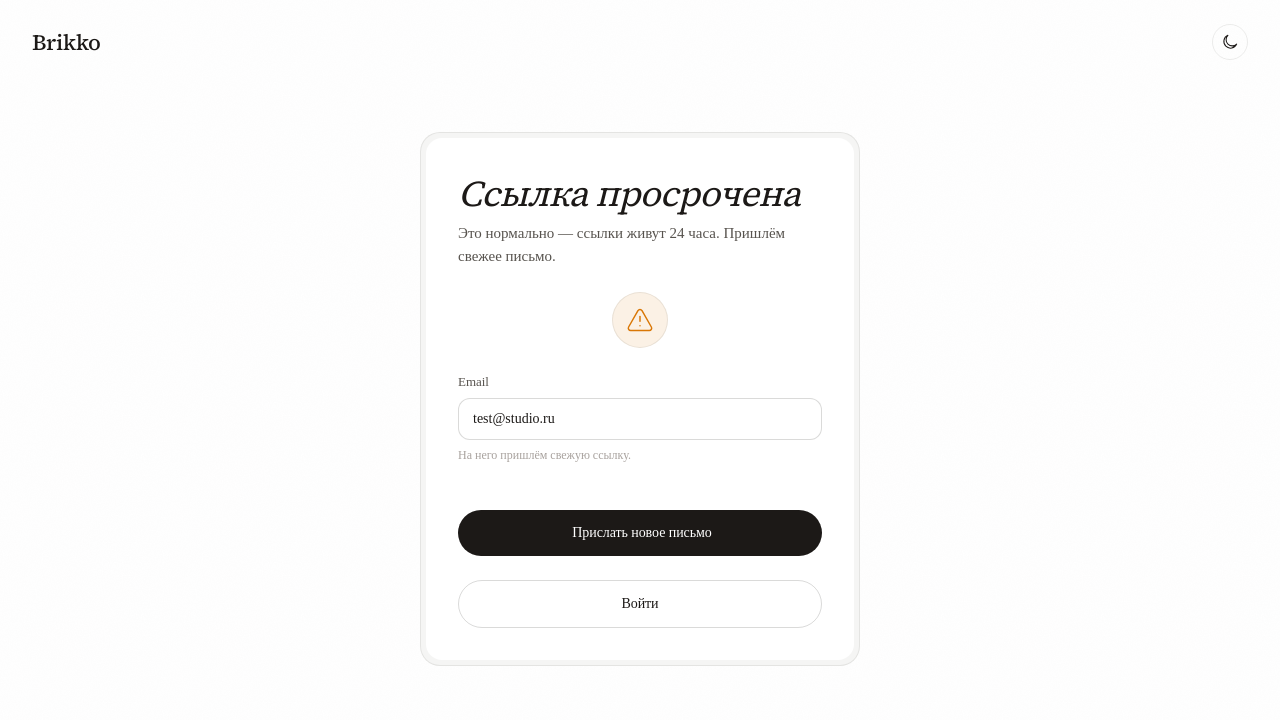
Test: /auth/verify-email expired-state › после успешного resend — кнопка disable с countdown
This screenshot has width=1280, height=720.
Click the button with test id "resend-verification-cta" at (640, 533), box [458,510,822,556]
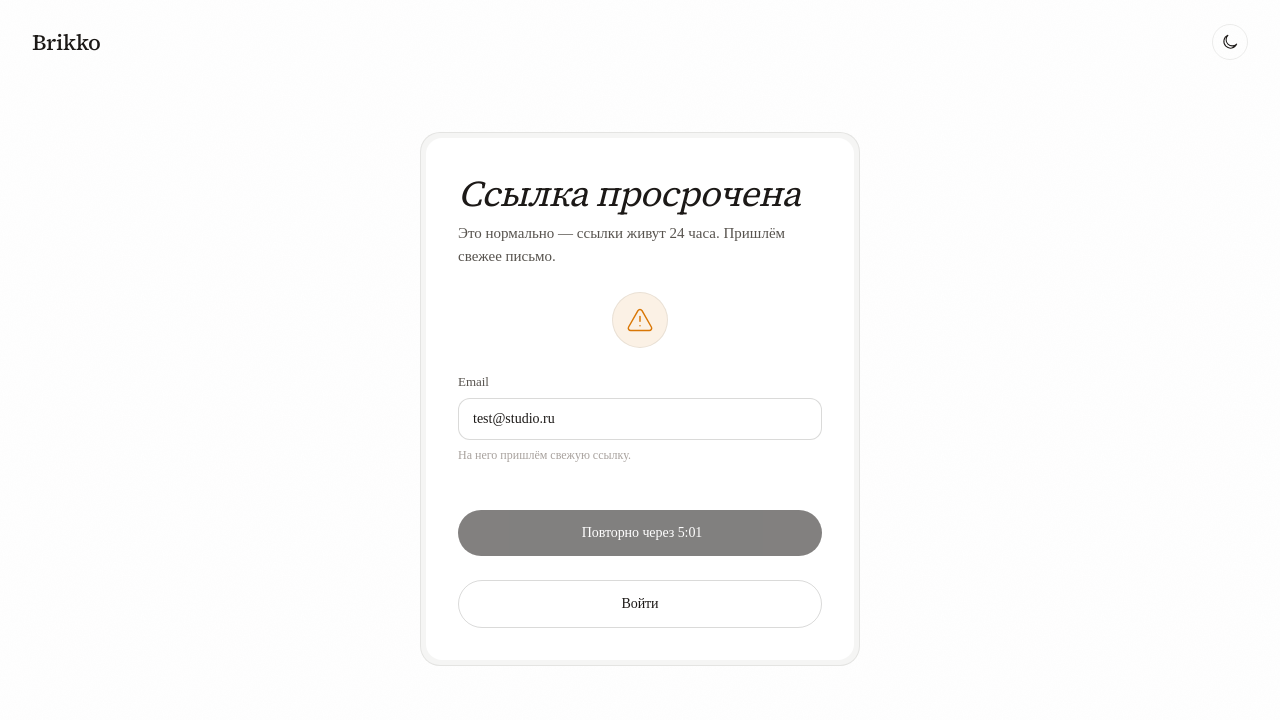
Now the button with test id "resend-verification-cta" is disabled, box [458,510,822,556]
Now the button with test id "resend-verification-cta" shows "Повторно через", box [458,510,822,556]
